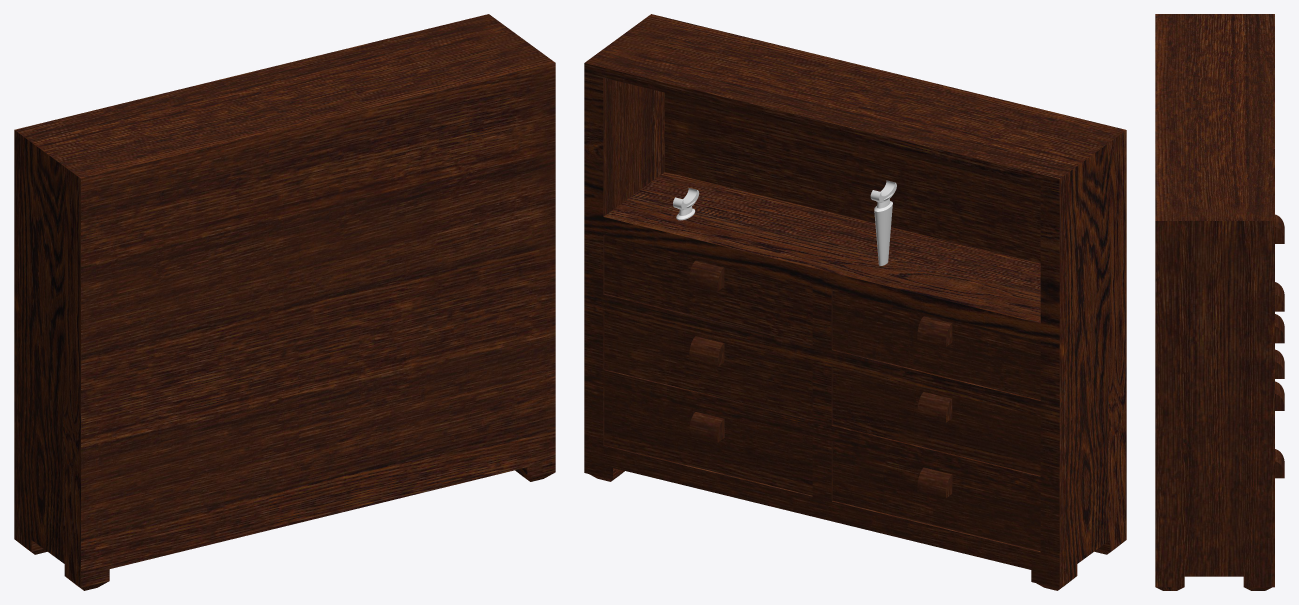
File: mobile_clarinetto.fbx
The picture shows the model from 3 angles, left to right: view 1: azimuth 30°, elevation 25°; view 2: azimuth 150°, elevation 25°; view 3: azimuth 270°, elevation 25°; orthographic projection. The views are drawn at different scales.
Visible parts, largest first — view 1: Pianoforte (3); view 2: Pianoforte (3), base.001; view 3: Pianoforte (3).
Boxes of the visible parts, x1,y1,x2,y2 form: Pianoforte (3): [14, 14, 555, 590]; Pianoforte (3): [584, 14, 1126, 590]; base.001: [870, 180, 896, 265]; Pianoforte (3): [1155, 14, 1284, 590].
Bounding box in the file's own units: 250 × 210 × 65.95.
